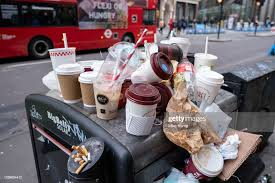cup: (125, 83, 160, 136), (53, 60, 88, 103)
